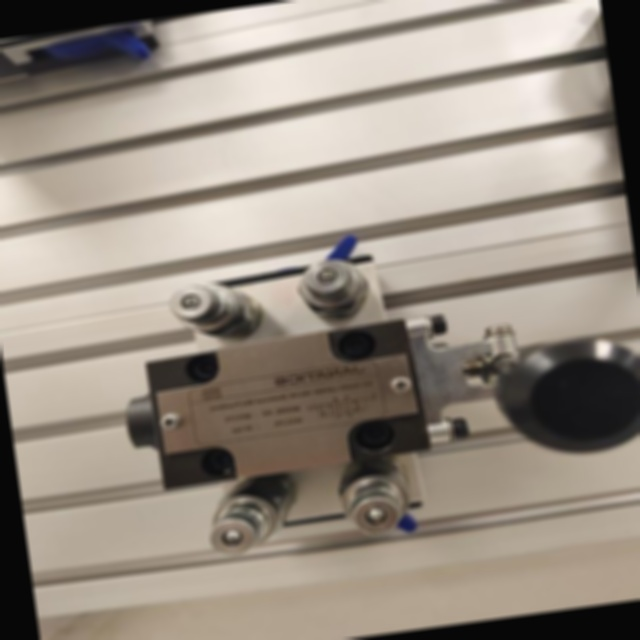4by3 hand lever valve: (97, 189, 640, 586)
